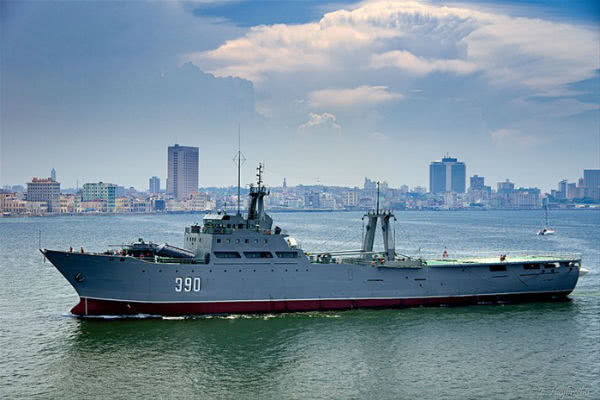warship: (40, 170, 581, 324)
